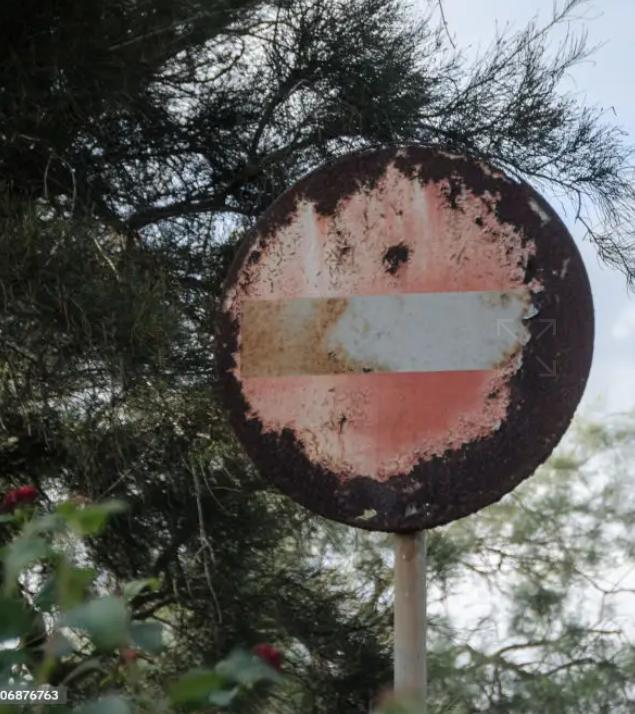obstructed_road_sign: (215, 143, 593, 535)
